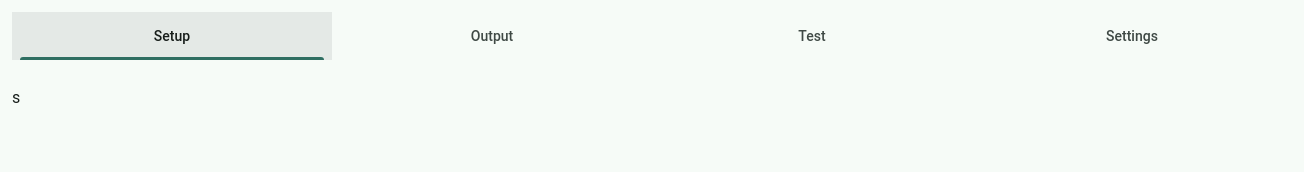
Test case: InspectorTabs › says so when a step has no settings
The image size is (1304, 172).
Click the tab "Settings" at (1132, 36), box left=972, top=12, right=1292, bottom=60
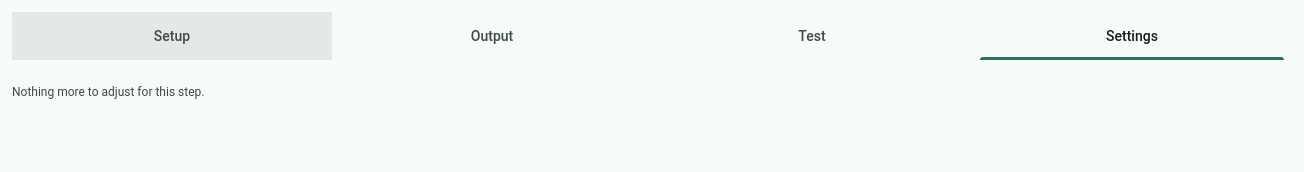
expect the text "Nothing more to adjust for this step." is shown: met, box left=12, top=85, right=204, bottom=99
